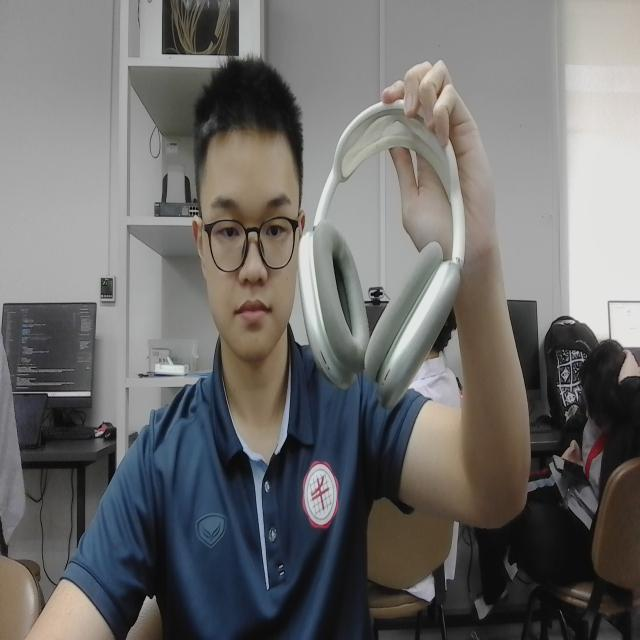airpods max: (291, 75, 473, 420)
